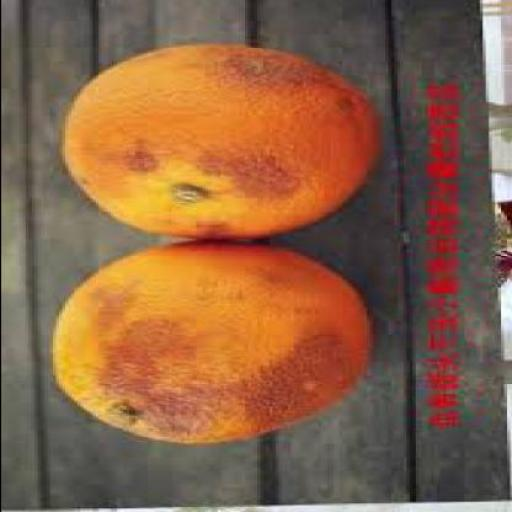biodegradable: (46, 244, 366, 448), (58, 44, 375, 242)
